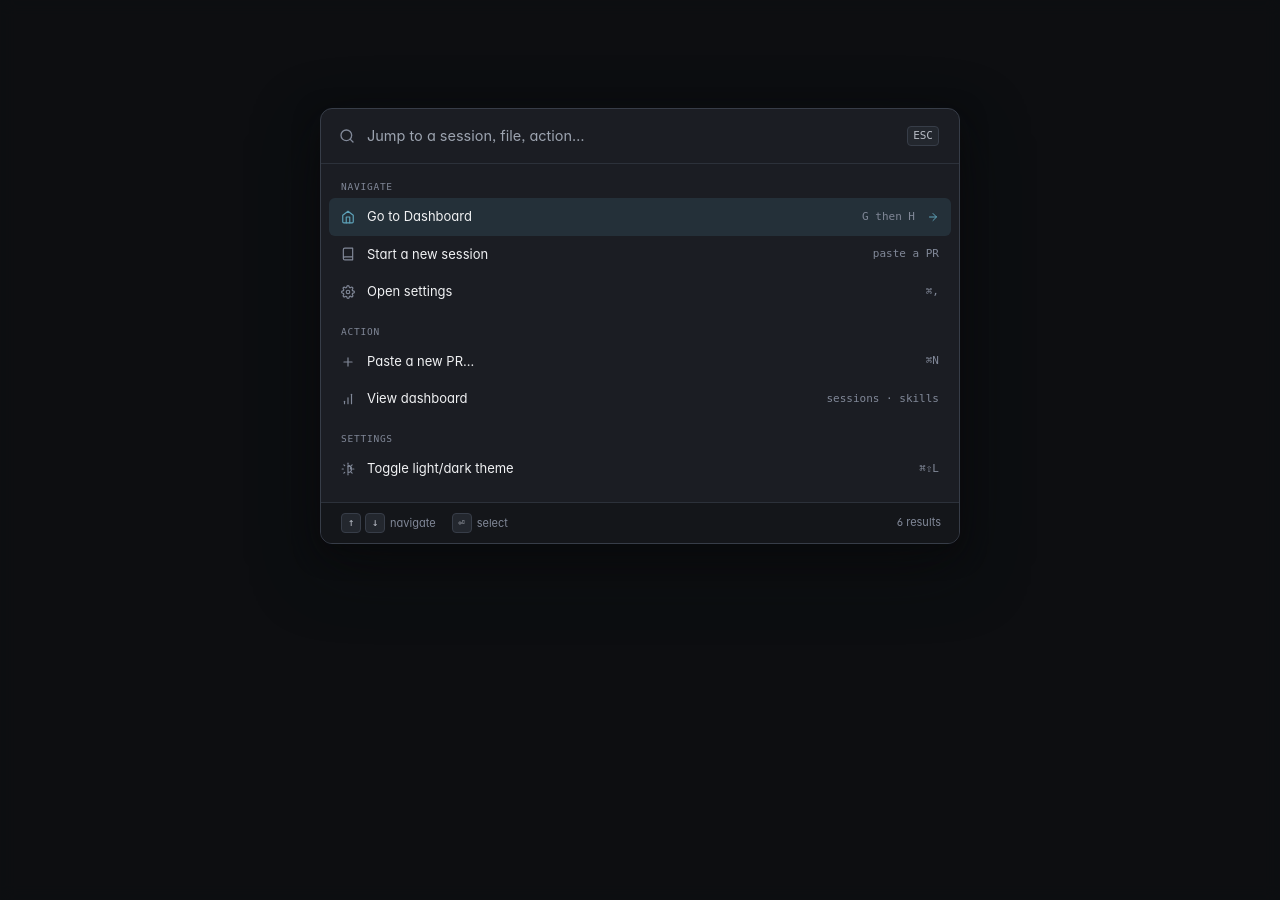
Test: GlobalPalette › filters items by label substring
The width and height of the screenshot is (1280, 900).
Type "dashboard" into the field at (630, 136), box [367,125,893,147]
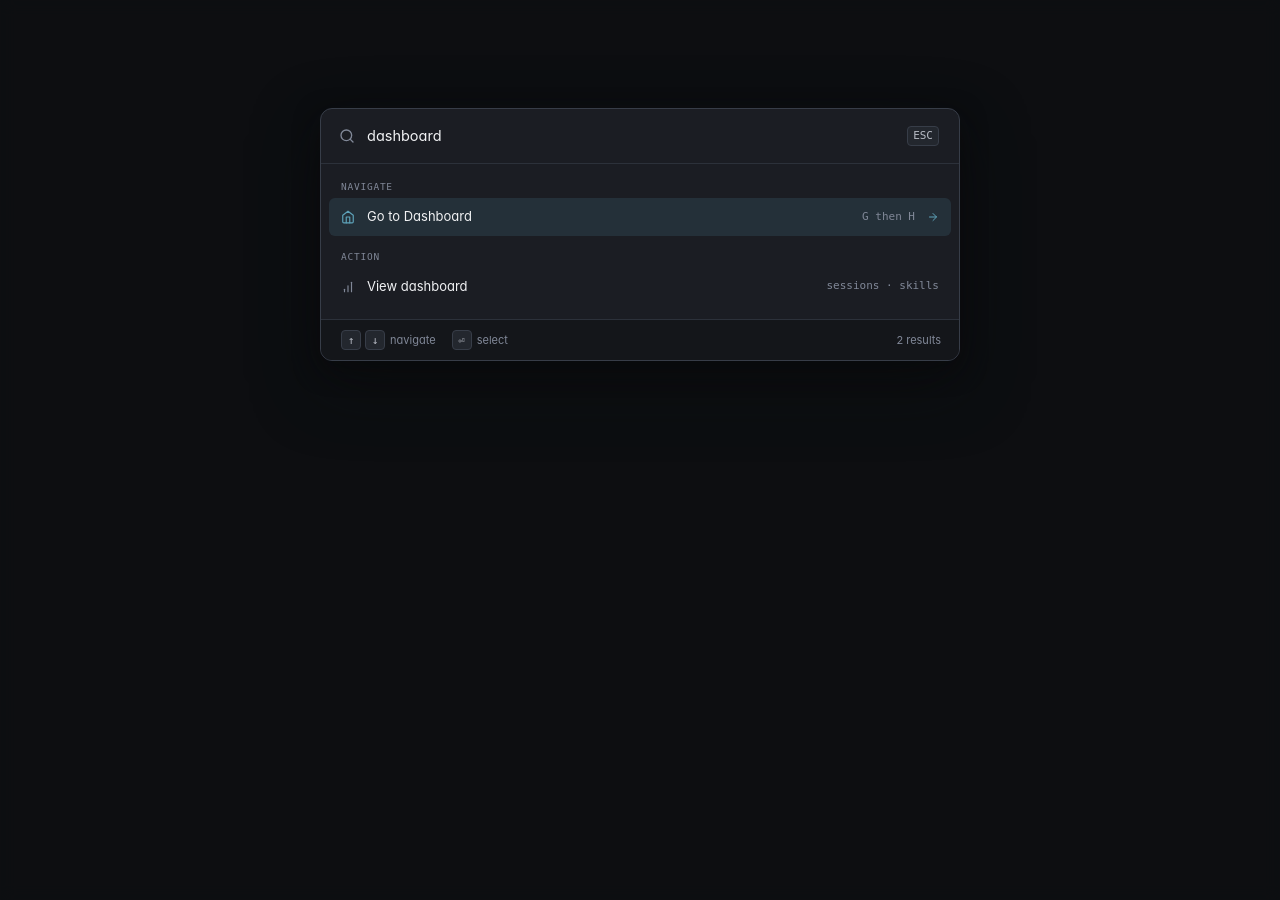
Expected: the text "Go to Dashboard" is shown, [367,208,472,224]
Result: the button "Toggle light/dark theme" is gone
